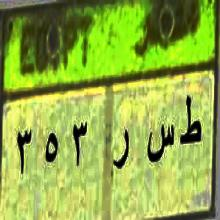3: (69, 114, 90, 173), (15, 120, 33, 178)
5: (42, 128, 61, 167)
Taa: (180, 92, 202, 154)
raa: (112, 119, 131, 177)
seen: (144, 108, 175, 173)
